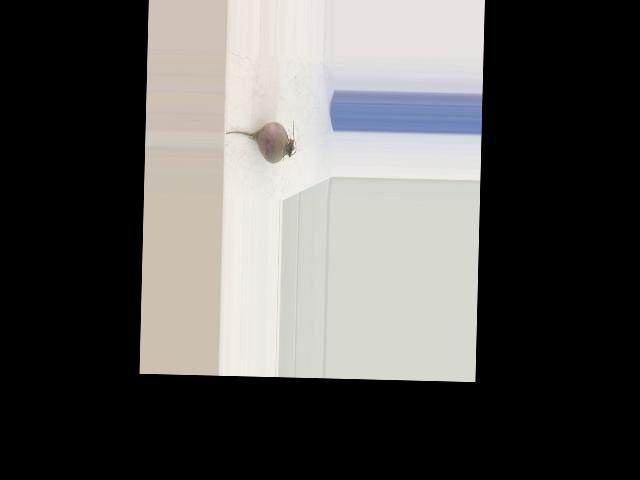beet: (224, 117, 297, 163)
